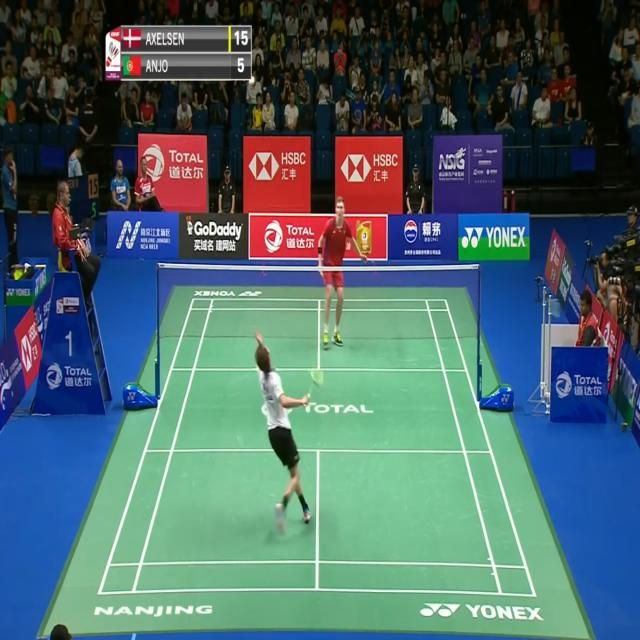Player1: (248, 322, 330, 540)
Player2: (314, 193, 372, 354)
